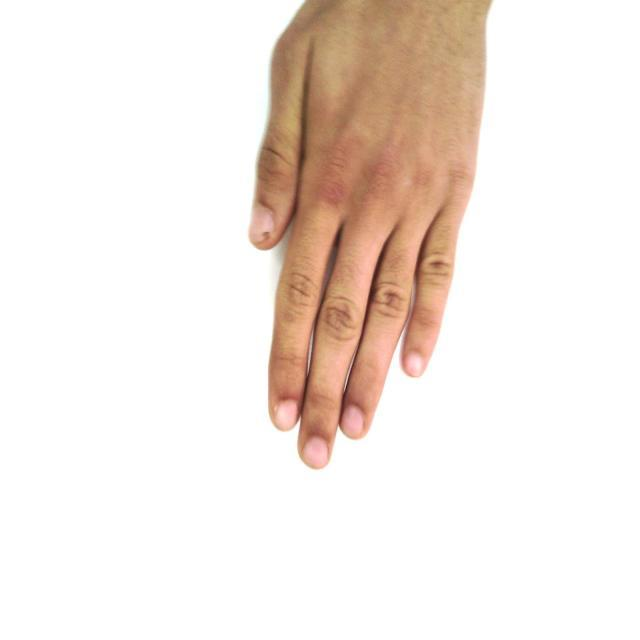Fingernail: (249, 206, 273, 242), (304, 438, 327, 467), (342, 407, 364, 437), (276, 401, 297, 428), (405, 353, 423, 376)
